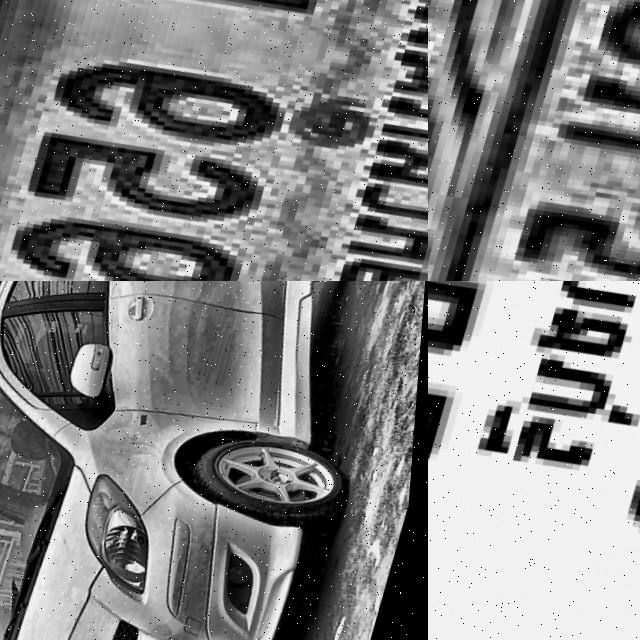license-plate: (0, 0, 428, 281), (428, 281, 640, 640), (428, 0, 640, 281)
